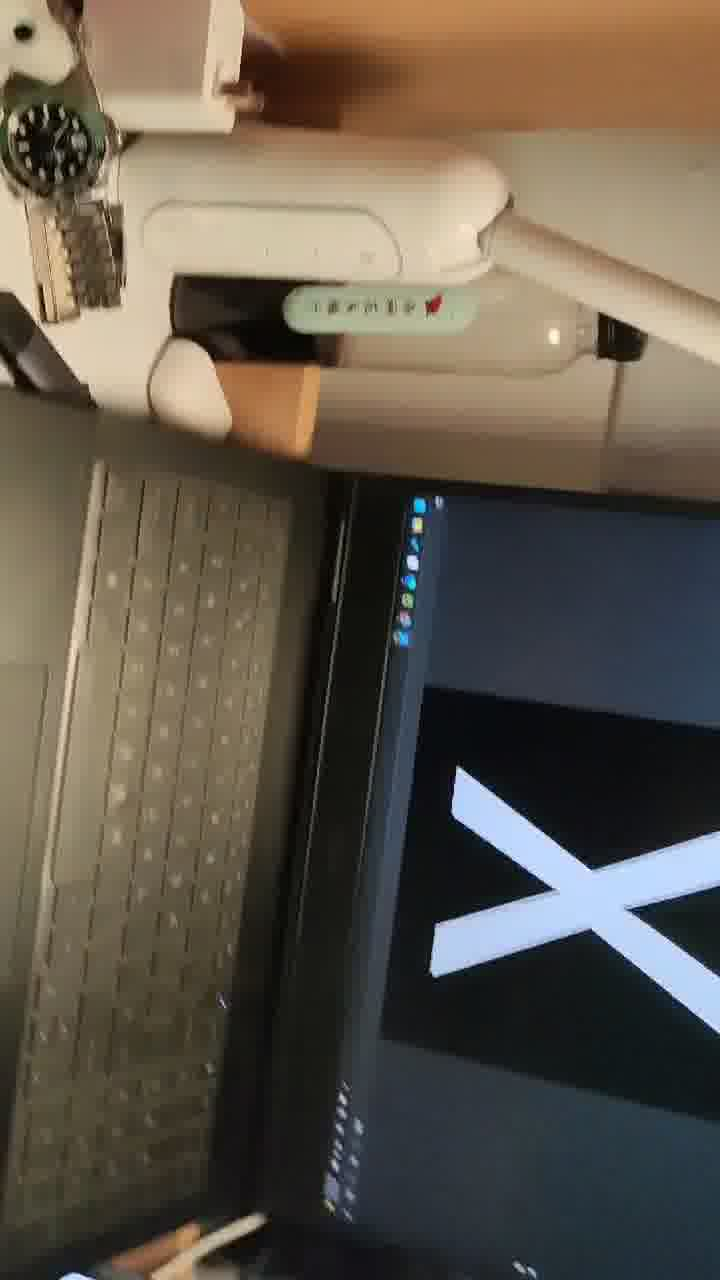X: (408, 689, 720, 1171)
